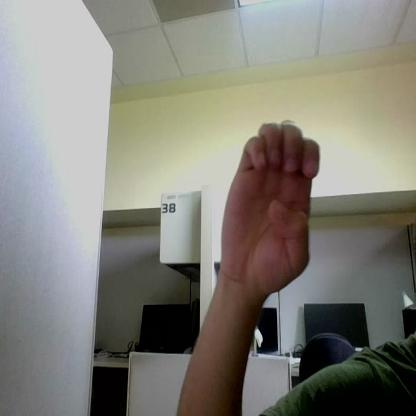E: (221, 121, 320, 296)
